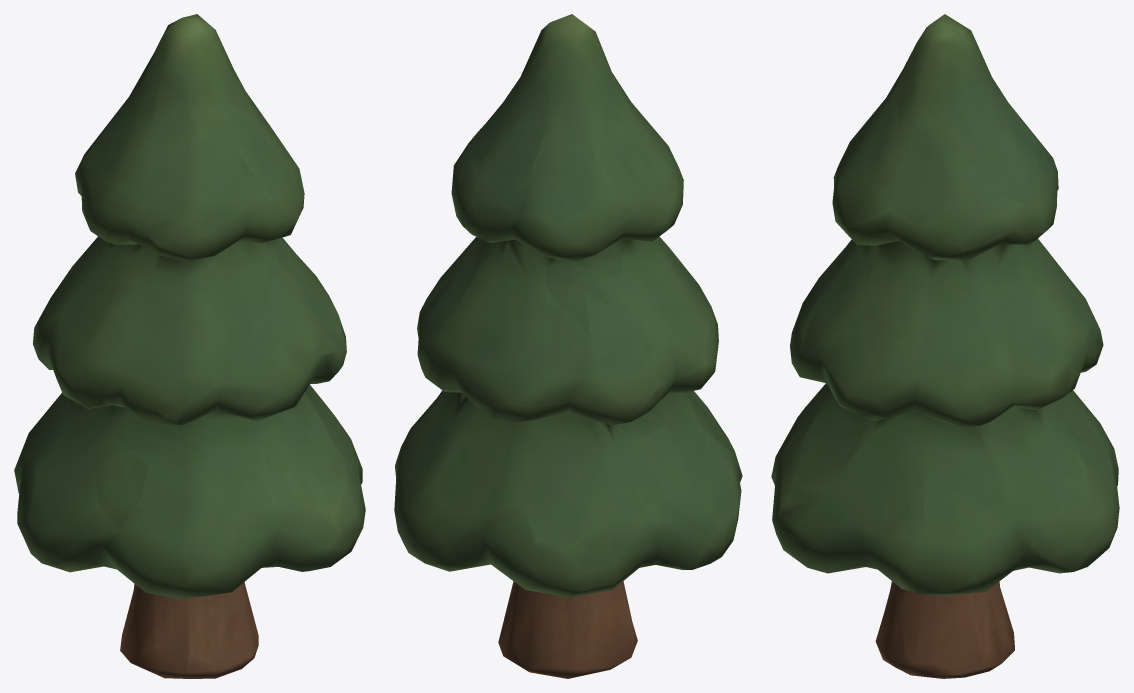
File: tree-pine.glb
The picture shows the model from 3 angles, left to right: view 1: azimuth 30°, elevation 25°; view 2: azimuth 150°, elevation 25°; view 3: azimuth 270°, elevation 25°; orthographic projection.
Visible parts, largest first — view 1: tripo_node_10c816b1-1379-4e0a-8d95-784797cffbee; view 2: tripo_node_10c816b1-1379-4e0a-8d95-784797cffbee; view 3: tripo_node_10c816b1-1379-4e0a-8d95-784797cffbee.
Boxes of the visible parts, x1,y1,x2,y2 form: tripo_node_10c816b1-1379-4e0a-8d95-784797cffbee: (14,14,365,678); tripo_node_10c816b1-1379-4e0a-8d95-784797cffbee: (394,14,742,678); tripo_node_10c816b1-1379-4e0a-8d95-784797cffbee: (771,14,1119,678).
Size of the model in its own units: 0.5194 by 1 by 0.4943.
1 material, 1 textured.
